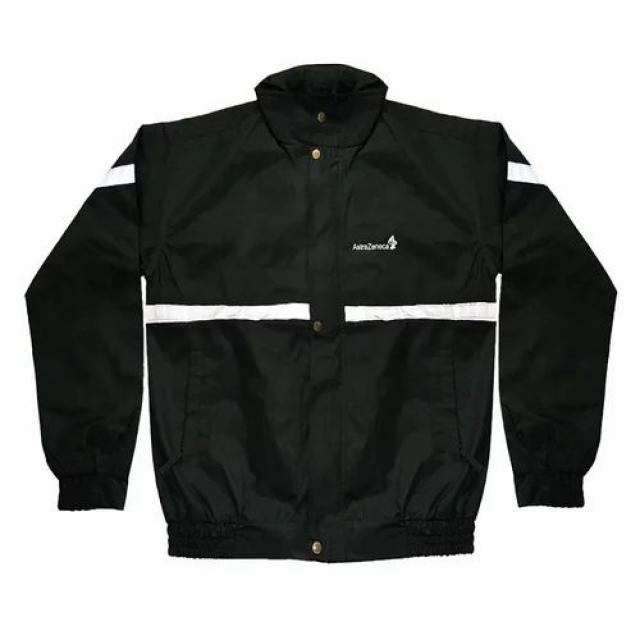Reflective-Jacket: (23, 46, 632, 577)
